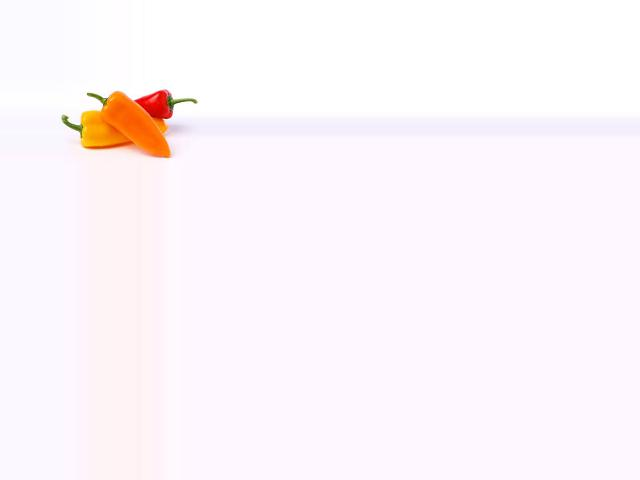bell_pepper: (58, 106, 140, 156)
